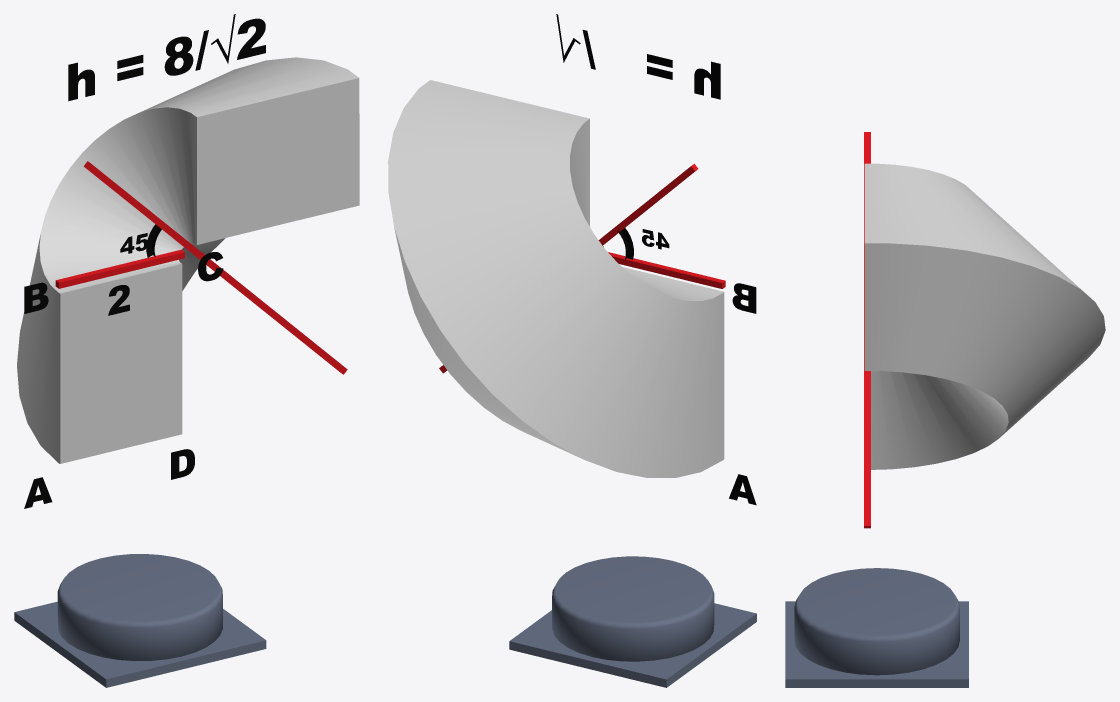
The picture shows the model from 3 angles, left to right: view 1: azimuth 30°, elevation 25°; view 2: azimuth 150°, elevation 25°; view 3: azimuth 270°, elevation 25°; orthographic projection.
Parts seen in each view (by area): view 1: Cube.001, Cube, Text.006, Cube.003, Cube.002, Text.001, Text.003; view 2: Cube.001, Cube, Text.006, Cube.002, Cube.003, Text.001; view 3: Cube.001, Cube, Cube.003.
Boxes of the visible parts, x1,y1,x2,y2 form: Cube.001: (17, 57, 359, 463); Cube: (14, 554, 266, 687); Text.006: (68, 14, 265, 101); Cube.003: (83, 161, 347, 374); Cube.002: (55, 249, 184, 288); Text.001: (24, 282, 48, 313); Text.003: (171, 449, 194, 479); Cube.001: (388, 80, 724, 477); Cube: (509, 556, 756, 687); Text.006: (556, 14, 720, 99); Cube.002: (608, 252, 725, 288); Cube.003: (439, 163, 698, 373); Text.001: (732, 283, 756, 313); Cube.001: (864, 163, 1105, 469); Cube: (785, 568, 968, 687); Cube.003: (864, 132, 870, 528).
Bounding box in the file's own units: 19.06 × 33.04 × 15.84.
